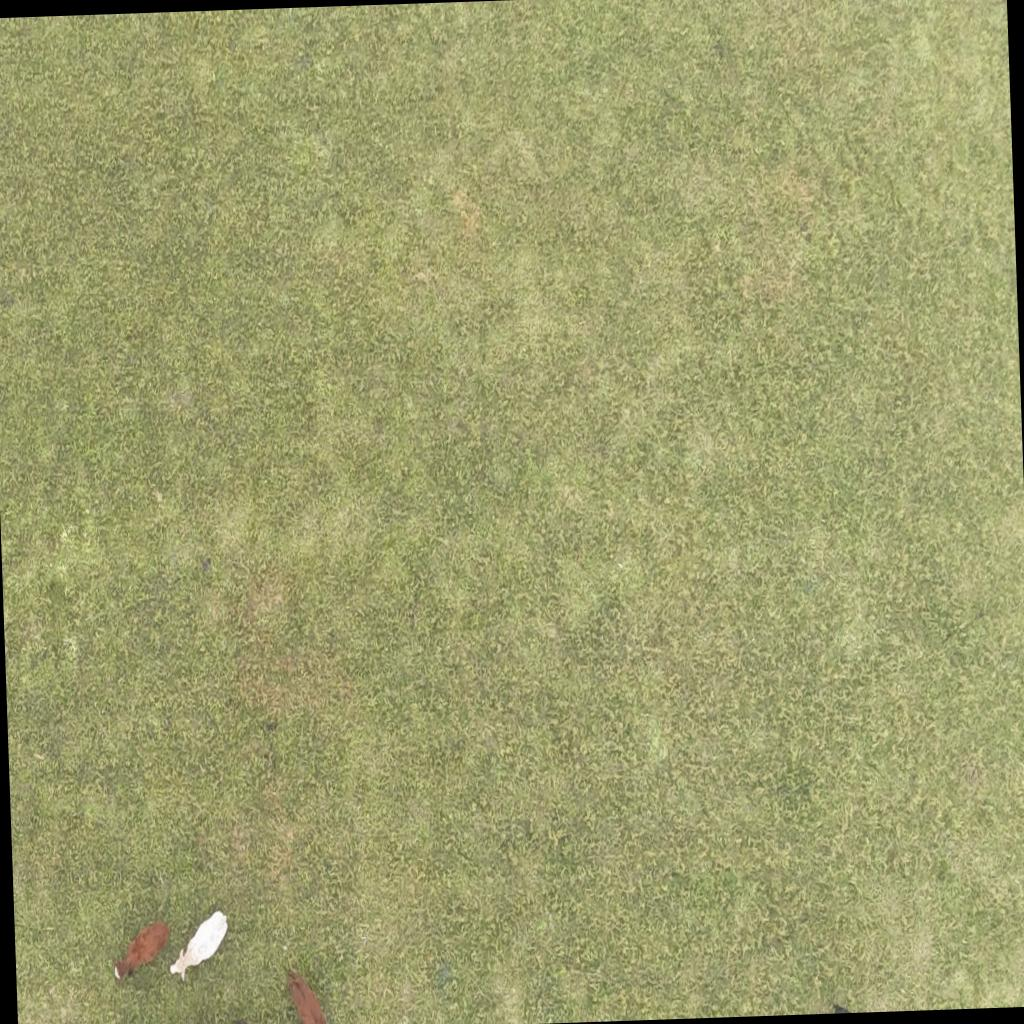cow: (168, 910, 228, 984), (111, 916, 174, 984), (284, 962, 331, 1024)
